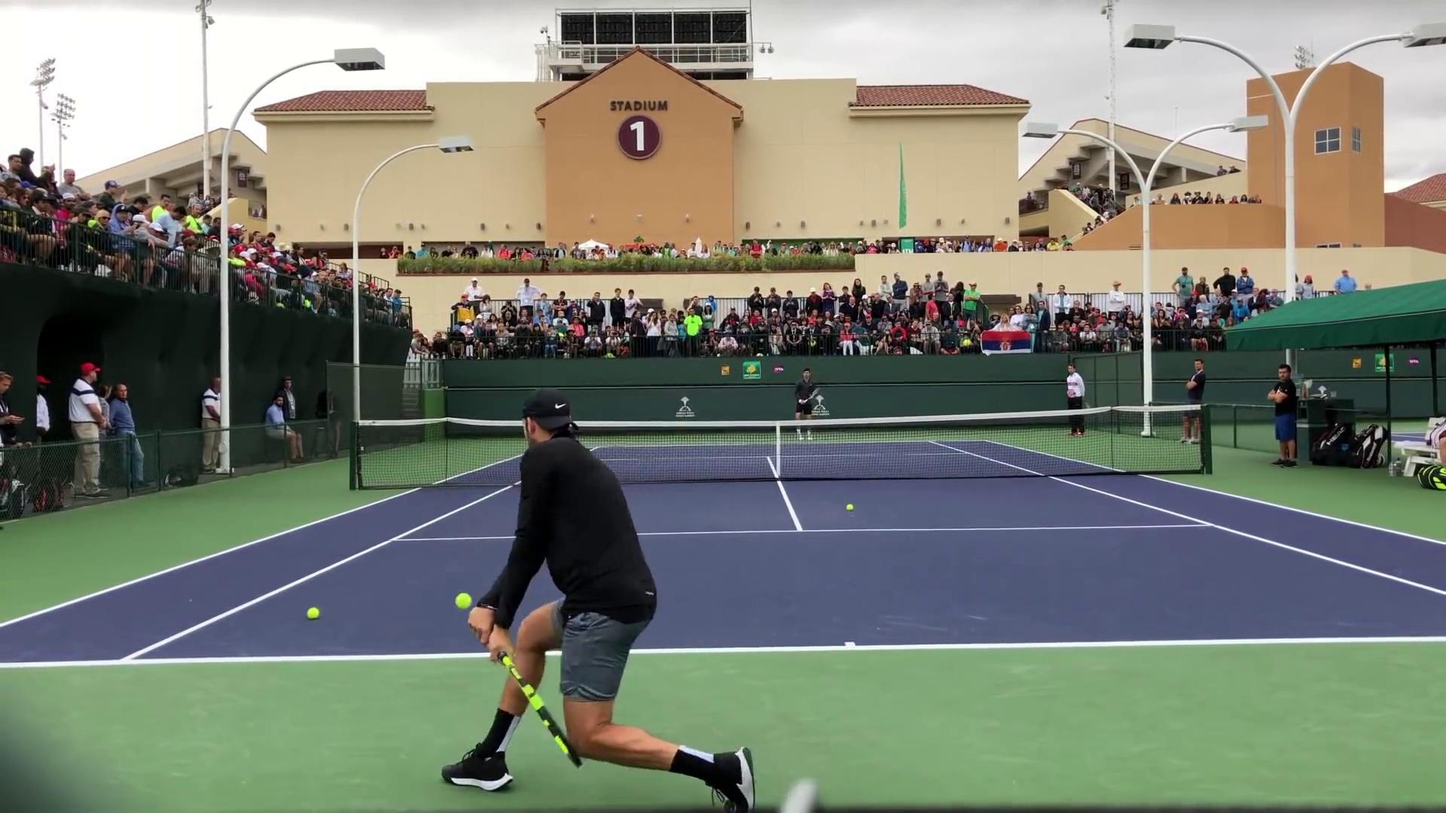ball: (454, 593, 472, 610), (307, 606, 320, 620), (845, 504, 853, 512)
